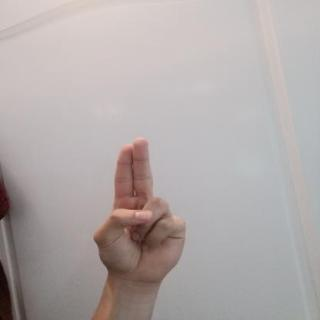TA: (80, 130, 198, 289)
